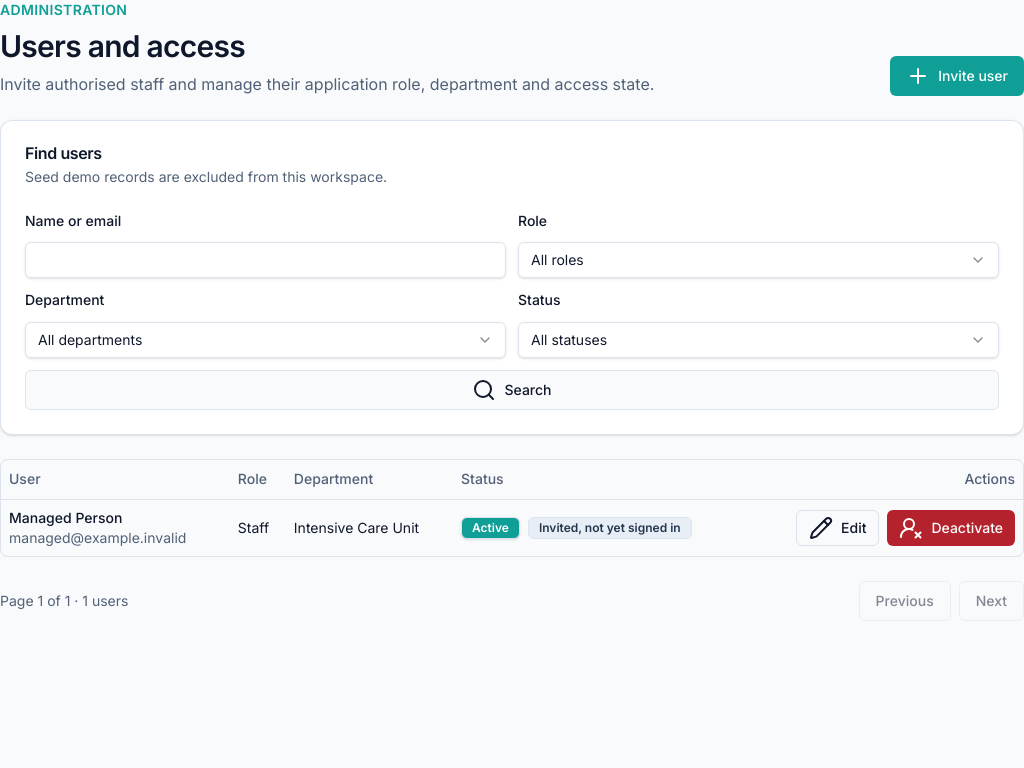
UserManagement › creates an invitation and reports duplicate identities with a friendly message
Click the button "Invite user" at (957,76), box [890,56,1023,96]
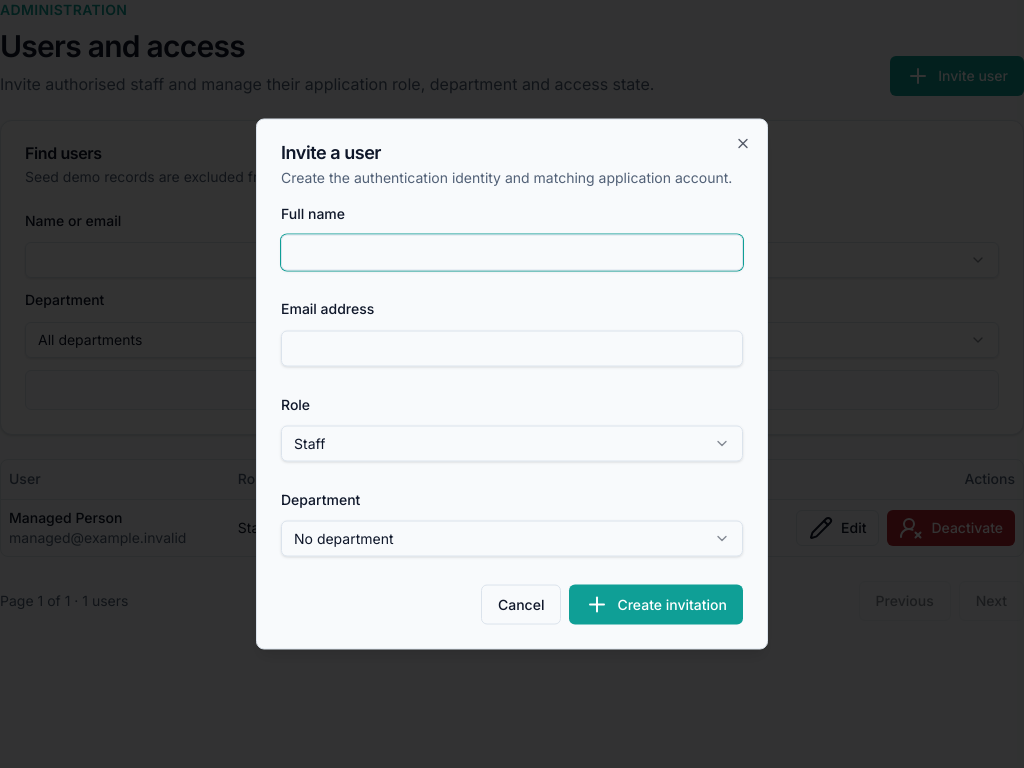
Type "New Person" into the field labelled "Full name" at (512,253), box [281,235,743,271]
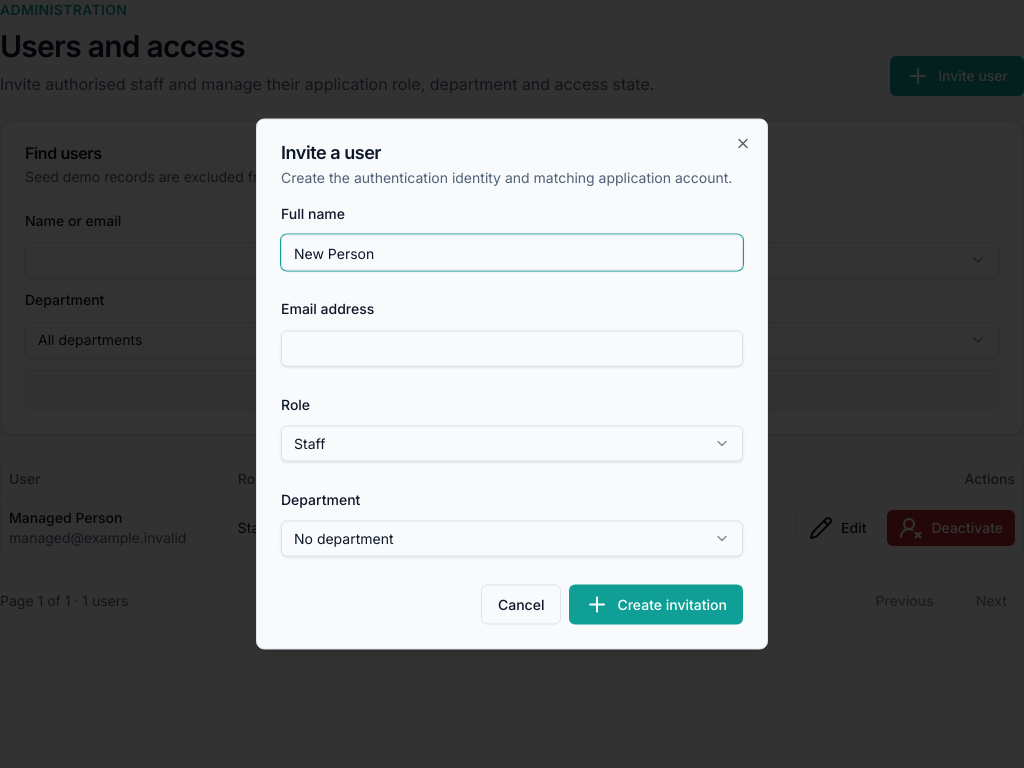
Type "new@example.invalid" into the field labelled "Email address" at (512,348), box [281,330,743,366]
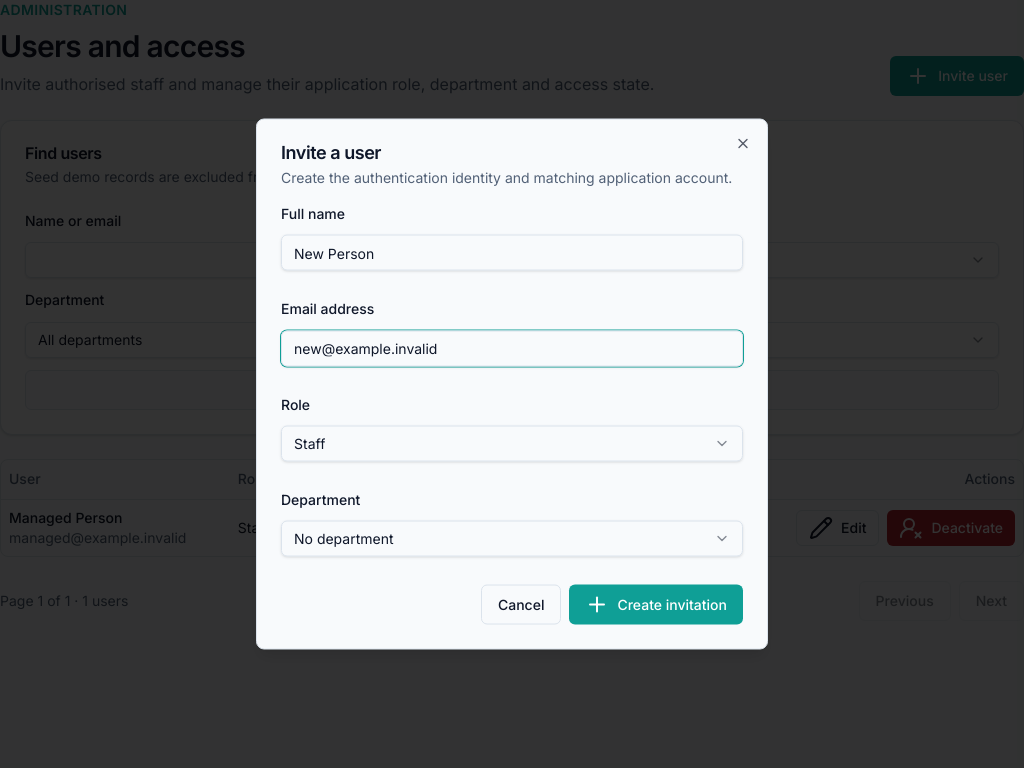
Click the button "Create invitation" at (656,604), box [569,584,743,624]
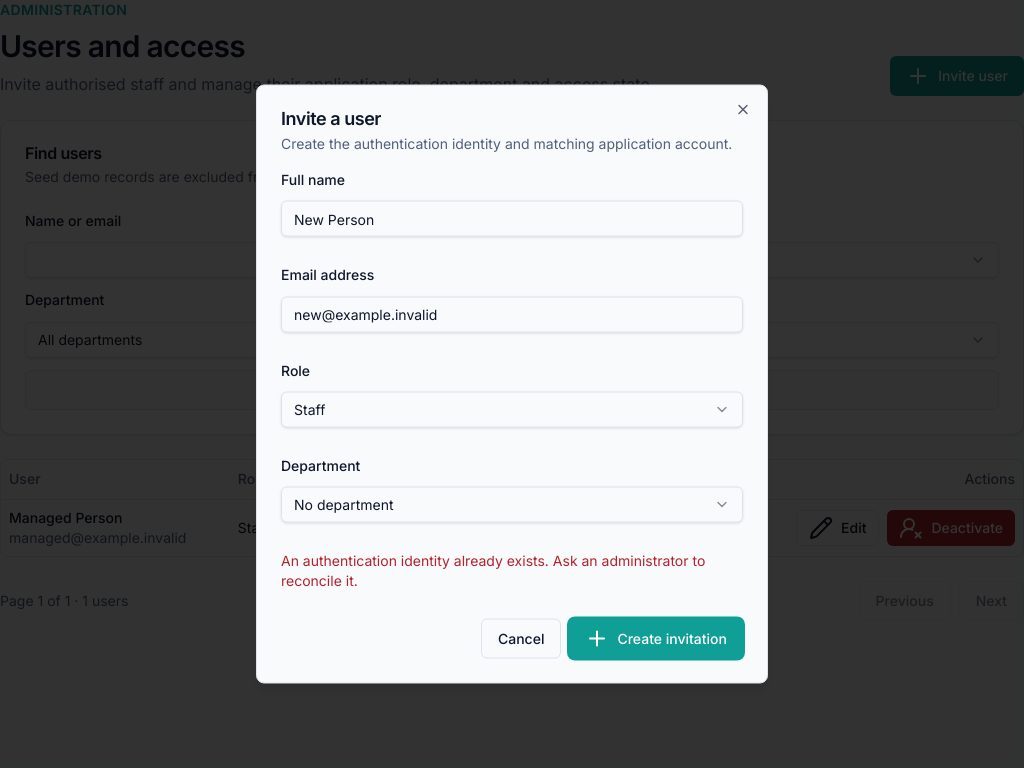
Check: the text "authentication identity already exists" is shown, box [281,552,705,588]
